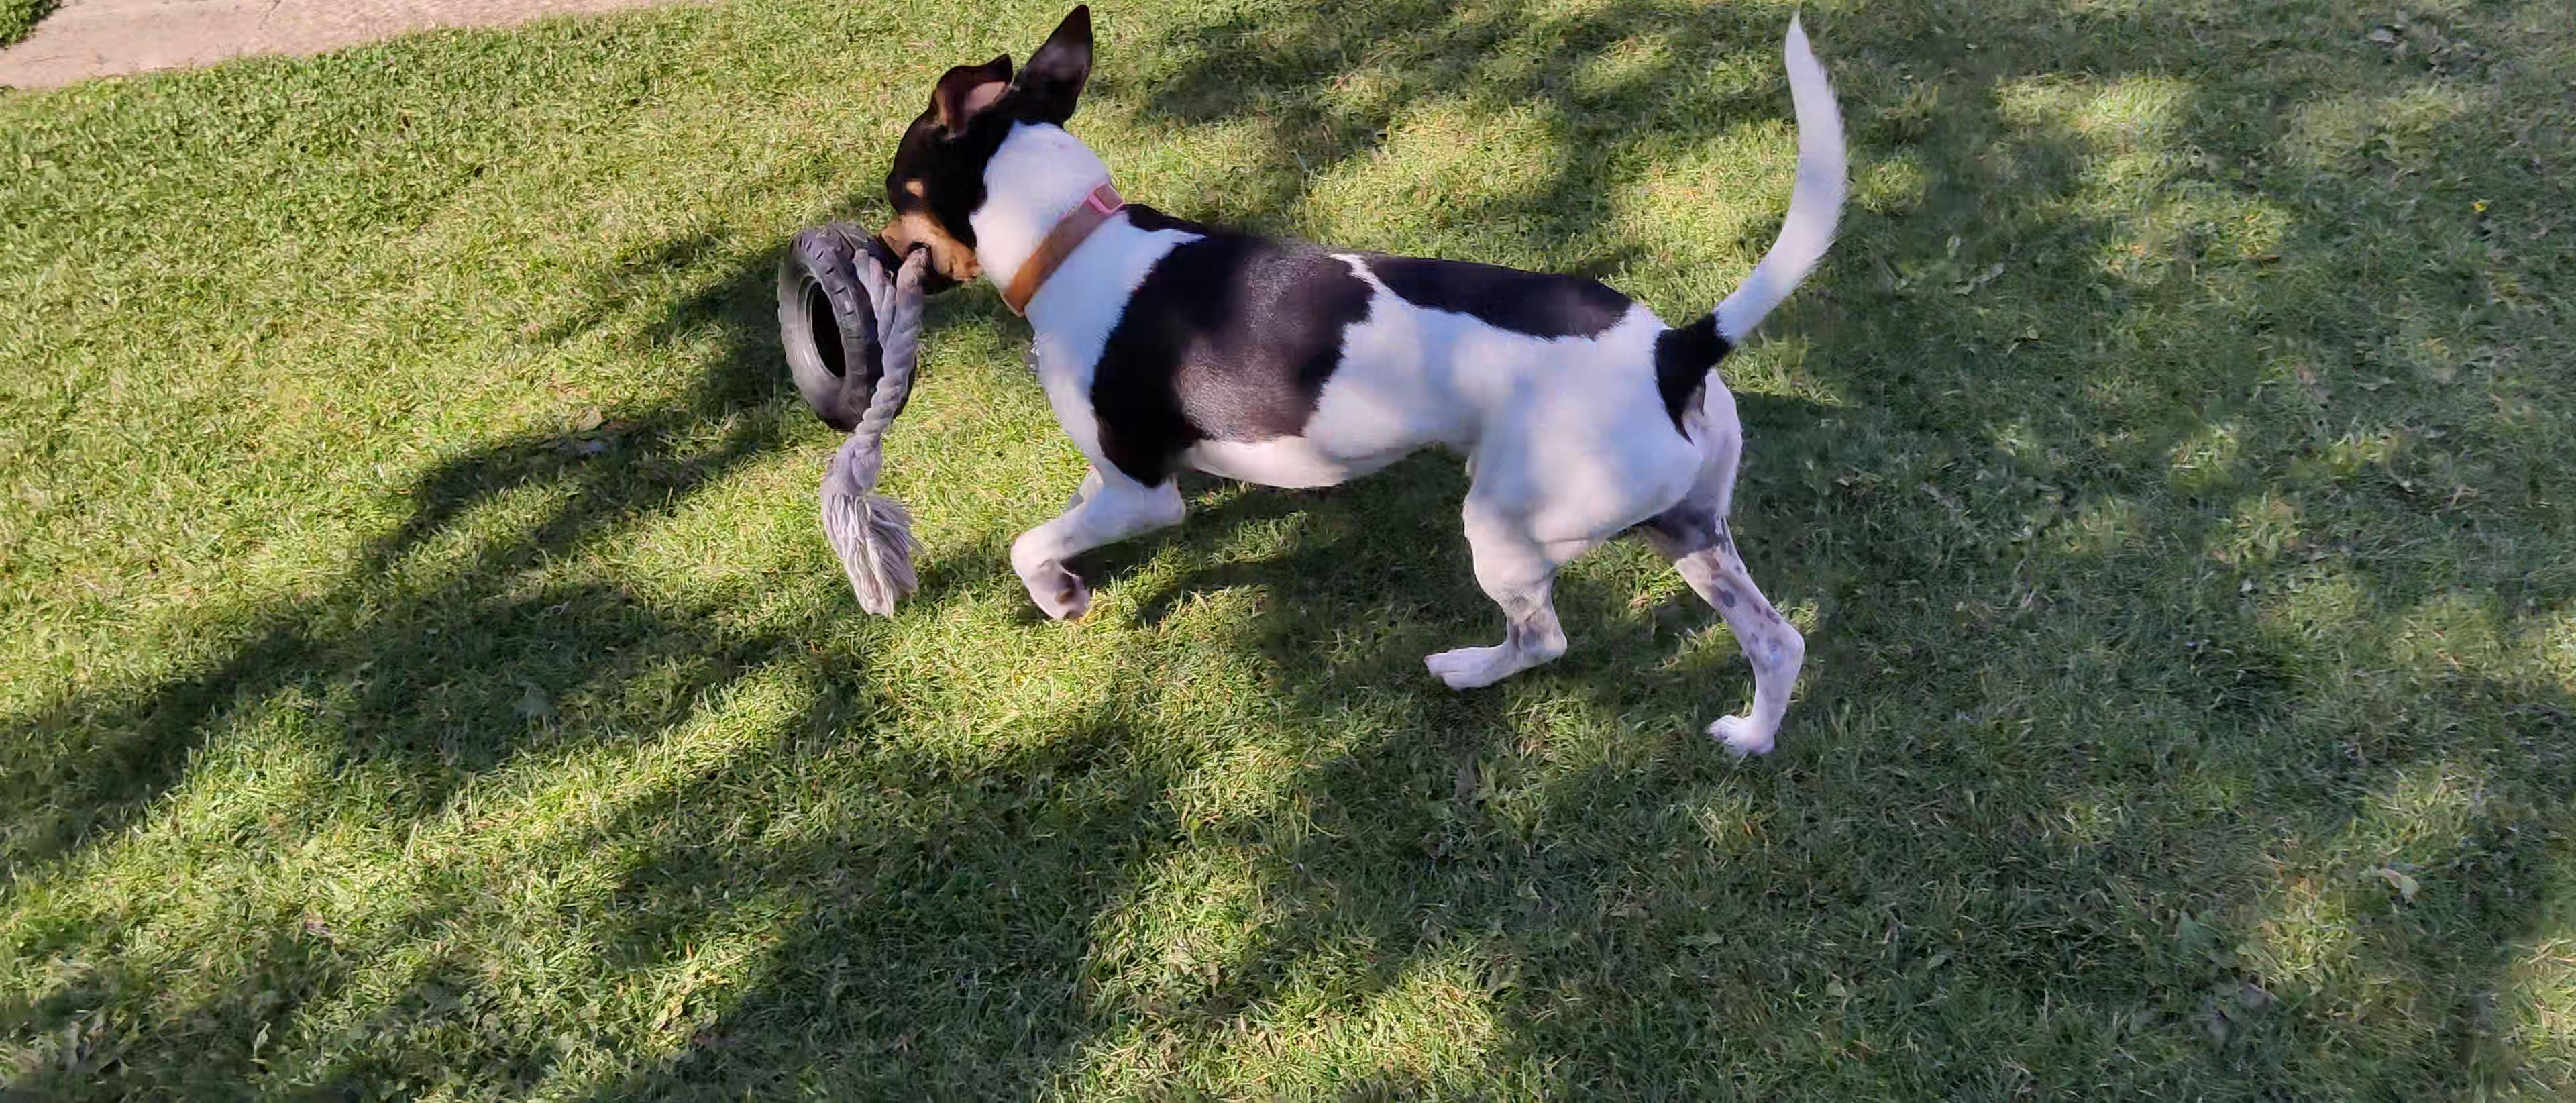Dog: (864, 3, 1920, 763)
